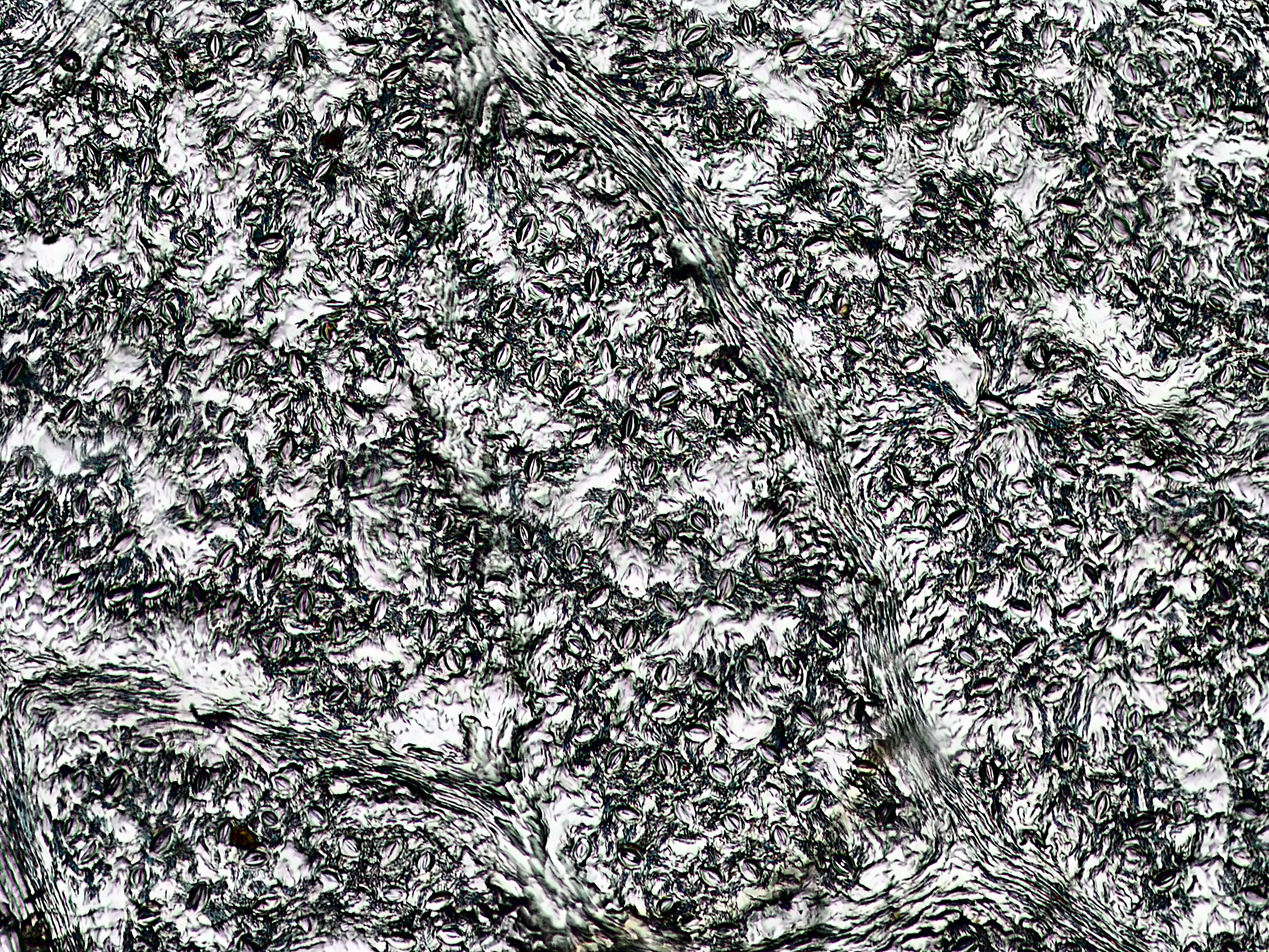stomata: (513, 213, 539, 247), (558, 380, 587, 408), (527, 355, 550, 390), (607, 489, 632, 521), (814, 120, 837, 154), (1185, 6, 1218, 29), (112, 527, 138, 556), (1163, 461, 1197, 483), (835, 58, 859, 89), (379, 61, 411, 84), (111, 387, 134, 419), (40, 285, 66, 313), (271, 154, 293, 187), (802, 233, 835, 255), (603, 746, 628, 775), (346, 35, 380, 56), (263, 554, 286, 585), (744, 104, 766, 136), (618, 409, 640, 441), (716, 567, 738, 599), (652, 592, 679, 618), (148, 827, 174, 854), (27, 490, 52, 518), (653, 385, 682, 409), (804, 276, 828, 305), (1012, 636, 1041, 660), (568, 424, 598, 447), (186, 881, 209, 911), (931, 462, 957, 488), (553, 212, 578, 239), (815, 629, 842, 654), (228, 43, 256, 67), (129, 94, 153, 122), (161, 351, 182, 383), (979, 396, 1011, 417), (944, 509, 972, 533), (780, 39, 809, 62), (1153, 328, 1182, 351), (132, 313, 152, 346), (583, 265, 603, 298), (973, 452, 995, 482), (1089, 633, 1110, 664), (523, 451, 544, 482), (210, 125, 235, 151), (1078, 429, 1104, 454), (1097, 531, 1123, 556), (830, 851, 855, 877), (794, 790, 822, 813), (790, 704, 818, 727), (674, 798, 697, 826), (697, 866, 725, 889), (755, 742, 783, 765), (214, 543, 237, 571), (22, 193, 42, 225), (391, 111, 423, 131), (367, 592, 387, 624), (287, 39, 309, 68), (257, 277, 279, 306), (757, 219, 779, 248), (264, 509, 285, 539), (1107, 212, 1131, 238), (442, 646, 466, 672), (701, 113, 724, 140), (1053, 92, 1076, 119), (943, 282, 965, 310), (843, 334, 871, 356), (854, 101, 882, 123), (904, 44, 936, 63), (361, 304, 391, 324), (492, 294, 517, 318), (792, 579, 822, 599), (651, 701, 681, 721), (573, 666, 596, 692), (379, 839, 402, 865), (192, 79, 219, 101), (3, 358, 25, 385), (1146, 243, 1165, 274), (1092, 790, 1111, 821), (492, 340, 513, 368), (584, 587, 612, 608), (1230, 845, 1258, 866), (368, 669, 389, 697), (239, 8, 268, 28), (257, 233, 286, 253), (1113, 108, 1142, 128), (968, 678, 997, 698), (692, 70, 726, 87), (658, 78, 682, 102), (617, 56, 649, 74), (648, 327, 666, 359), (860, 23, 884, 47), (1018, 550, 1042, 574), (58, 400, 82, 424), (923, 325, 946, 350), (1041, 680, 1066, 703), (692, 670, 717, 693), (617, 846, 642, 869), (340, 398, 365, 421), (314, 513, 339, 536), (545, 248, 567, 274), (1153, 586, 1175, 612), (1055, 397, 1085, 416), (683, 24, 710, 45), (462, 614, 483, 641), (598, 339, 615, 372), (375, 355, 395, 383), (737, 388, 757, 416), (617, 622, 637, 650), (1038, 20, 1056, 51), (311, 157, 334, 181), (369, 256, 392, 280), (1082, 143, 1105, 167), (1212, 363, 1235, 387), (1085, 36, 1110, 58), (654, 752, 676, 777), (269, 391, 294, 413), (346, 101, 367, 127), (1152, 868, 1178, 889), (242, 475, 263, 501), (102, 458, 123, 484), (423, 892, 455, 909), (252, 895, 284, 912), (137, 149, 155, 179), (850, 215, 877, 235), (873, 276, 891, 306), (1180, 253, 1198, 283), (278, 435, 298, 462), (72, 489, 90, 519), (142, 580, 169, 600), (1095, 260, 1114, 288), (1212, 495, 1231, 523), (992, 518, 1014, 542), (663, 428, 685, 452), (739, 857, 761, 881), (131, 736, 164, 752), (305, 804, 327, 828), (889, 461, 910, 486), (1236, 252, 1254, 281), (912, 496, 930, 525), (614, 806, 643, 824), (295, 588, 313, 617), (657, 659, 677, 685), (145, 9, 164, 36), (18, 150, 45, 169), (277, 106, 296, 133), (99, 271, 118, 298), (776, 265, 795, 292), (913, 202, 943, 219), (825, 185, 848, 207), (983, 30, 1006, 52), (753, 557, 775, 580), (158, 184, 179, 208), (699, 402, 720, 426), (1139, 195, 1157, 223), (957, 559, 975, 587), (1122, 744, 1140, 772), (653, 517, 674, 541), (242, 849, 270, 867), (901, 354, 926, 374), (106, 770, 126, 795), (188, 488, 204, 519), (1072, 229, 1098, 248), (218, 407, 237, 433), (106, 586, 132, 605), (922, 245, 939, 274), (383, 934, 418, 948), (1033, 111, 1051, 138), (328, 461, 346, 488), (1121, 61, 1141, 85), (1236, 312, 1252, 342), (1213, 578, 1233, 602), (266, 635, 286, 659), (288, 350, 305, 378), (979, 314, 996, 342), (1234, 801, 1259, 820), (770, 824, 789, 849), (16, 455, 35, 480), (532, 557, 551, 582), (389, 212, 407, 238), (565, 541, 583, 567), (182, 231, 204, 252), (348, 346, 369, 368), (544, 147, 565, 169), (528, 281, 552, 300), (1056, 738, 1075, 762), (191, 769, 210, 793), (322, 223, 340, 248), (1091, 381, 1109, 406), (1060, 602, 1085, 620), (421, 613, 436, 643), (62, 192, 78, 220), (399, 141, 427, 157), (348, 246, 364, 274), (1054, 520, 1082, 536), (641, 457, 658, 483), (1206, 623, 1226, 645), (709, 763, 731, 783), (325, 685, 347, 705), (339, 836, 361, 856), (1030, 342, 1049, 365), (1081, 564, 1100, 587), (979, 761, 998, 784), (572, 837, 591, 860), (207, 31, 223, 58), (740, 10, 756, 37), (330, 614, 346, 641), (233, 355, 250, 380), (860, 144, 885, 161), (1136, 152, 1161, 169), (169, 416, 186, 441), (516, 522, 533, 547), (468, 256, 489, 276), (272, 774, 293, 794), (957, 647, 979, 666), (161, 300, 177, 326), (685, 725, 711, 741), (439, 927, 465, 943), (996, 69, 1014, 92), (82, 142, 99, 166), (395, 484, 412, 508), (1055, 198, 1082, 213), (1053, 465, 1078, 481), (61, 536, 77, 561), (933, 75, 952, 96), (1248, 357, 1269, 376), (690, 511, 709, 532), (723, 812, 742, 833), (1120, 277, 1138, 299), (564, 637, 586, 655), (537, 316, 554, 339), (1103, 486, 1120, 509), (1008, 599, 1031, 616), (1233, 754, 1256, 771), (91, 83, 106, 109), (1194, 176, 1220, 191), (927, 111, 951, 127), (1165, 298, 1189, 314), (1170, 799, 1186, 823), (327, 570, 347, 589), (499, 168, 517, 189), (382, 887, 409, 901), (402, 420, 417, 445), (781, 655, 797, 678), (309, 413, 325, 436), (928, 428, 956, 441), (1202, 89, 1217, 113), (1168, 639, 1186, 659), (624, 13, 649, 27), (417, 851, 433, 872), (374, 163, 396, 178), (1062, 254, 1084, 269), (66, 349, 83, 368), (449, 557, 463, 580), (259, 810, 279, 826), (131, 866, 147, 886), (900, 89, 913, 113), (218, 821, 232, 843), (1127, 709, 1142, 729), (1012, 480, 1032, 494), (659, 897, 675, 914)
